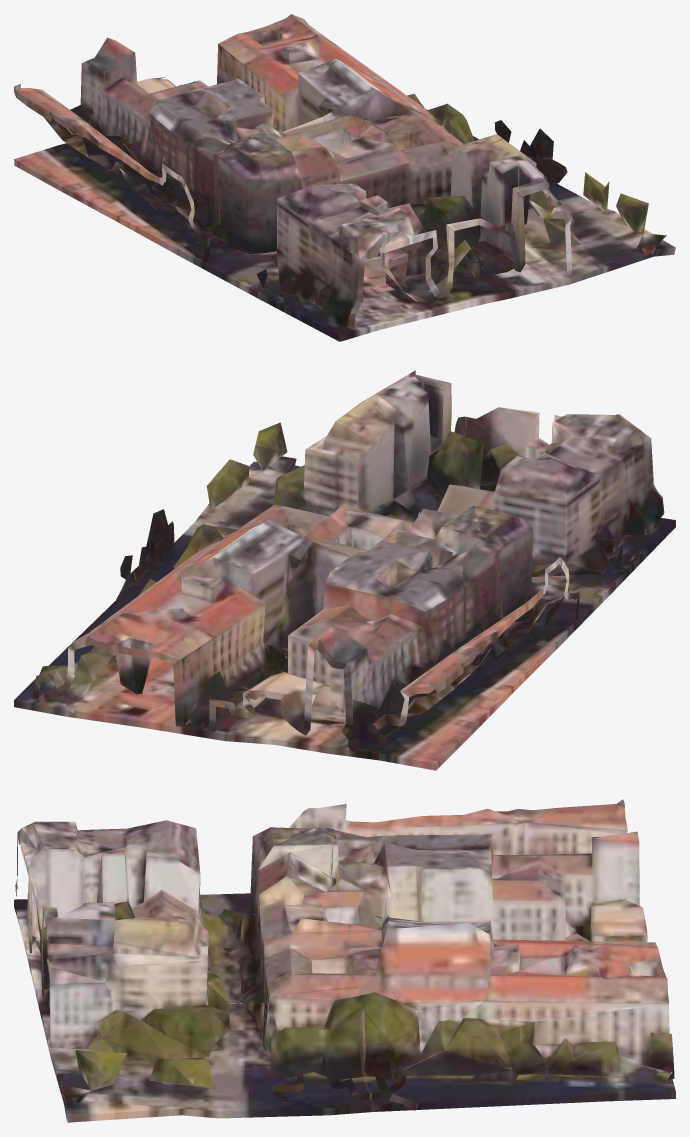
The picture shows the model from 3 angles, top to bottom: view 1: azimuth 30°, elevation 25°; view 2: azimuth 150°, elevation 25°; view 3: azimuth 270°, elevation 25°; orthographic projection. The views are drawn at different scales.
Visible parts, largest first — view 1: Mesh_0; view 2: Mesh_0; view 3: Mesh_0.
Boxes of the visible parts, box(x1,y1,x2,y2) form: Mesh_0: box(14, 14, 675, 341); Mesh_0: box(14, 370, 675, 770); Mesh_0: box(14, 799, 675, 1122).
Bounding box in the file's own units: 133 × 38.42 × 165.
1 material, 1 textured.
